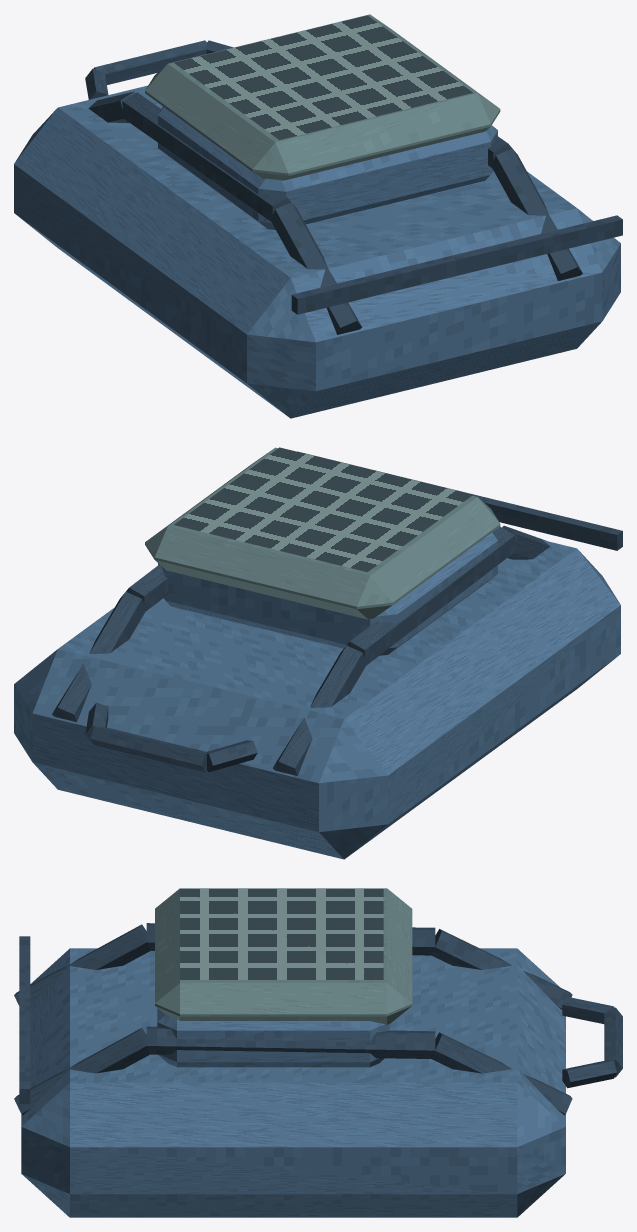
Rendered from petpack.glb.
3 renders of one model, top to bottom at view 1: azimuth 30°, elevation 25°; view 2: azimuth 150°, elevation 25°; view 3: azimuth 270°, elevation 25°, orthographic. The views are drawn at different scales.
Parts seen in each view (by area): view 1: block_bag shell, block_vent mesh, block_pet carrier frame, block_front pocket, block_zipper, block_webbing strap 2 (×2), block_webbing strap 1, block_carry handle 1, block_webbing strap 0; view 2: block_bag shell, block_vent mesh, block_pet carrier frame, block_front pocket, block_webbing strap 0 (×2), block_webbing strap 1 (×2), block_zipper, block_carry handle 1, block_carry handle 0, block_webbing strap 2; view 3: block_bag shell, block_vent mesh, block_pet carrier frame, block_front pocket, block_webbing strap 1 (×2), block_webbing strap 2 (×2), block_webbing strap 0 (×2), block_zipper, block_carry handle 2, block_carry handle 1, block_carry handle 0.
Part boxes in pixels (x1,y1,x2,y2): block_bag shell: [14, 85, 620, 418]; block_vent mesh: [174, 15, 472, 140]; block_pet carrier frame: [145, 14, 500, 180]; block_front pocket: [158, 106, 497, 229]; block_zipper: [291, 215, 622, 314]; block_webbing strap 2 (×2): [272, 148, 582, 334]; block_webbing strap 1: [122, 92, 291, 222]; block_carry handle 1: [93, 40, 206, 84]; block_webbing strap 0: [88, 91, 135, 123]; block_bag shell: [14, 540, 620, 859]; block_vent mesh: [174, 447, 472, 572]; block_pet carrier frame: [145, 447, 500, 619]; block_front pocket: [158, 532, 497, 655]; block_webbing strap 0 (×2): [52, 592, 366, 775]; block_webbing strap 1 (×2): [126, 526, 515, 665]; block_zipper: [297, 451, 622, 550]; block_carry handle 1: [90, 726, 206, 772]; block_carry handle 0: [206, 740, 257, 772]; block_webbing strap 2: [502, 525, 550, 559]; block_bag shell: [21, 948, 565, 1217]; block_vent mesh: [180, 889, 383, 979]; block_pet carrier frame: [155, 888, 412, 1024]; block_front pocket: [157, 1008, 389, 1067]; block_webbing strap 1 (×2): [146, 923, 435, 1058]; block_webbing strap 2 (×2): [14, 924, 150, 1115]; block_webbing strap 0 (×2): [431, 929, 572, 1115]; block_zipper: [19, 936, 30, 1103]; block_carry handle 2: [562, 1060, 616, 1088]; block_carry handle 1: [604, 1007, 622, 1077]; block_carry handle 0: [562, 997, 614, 1023].
Bounding box in the file's own units: 0.4531 × 0.2605 × 0.6649.
1 material, 1 textured.
